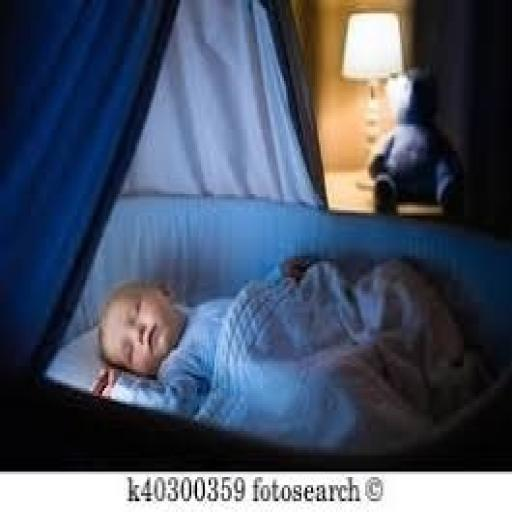sleeping: (91, 251, 469, 447)
